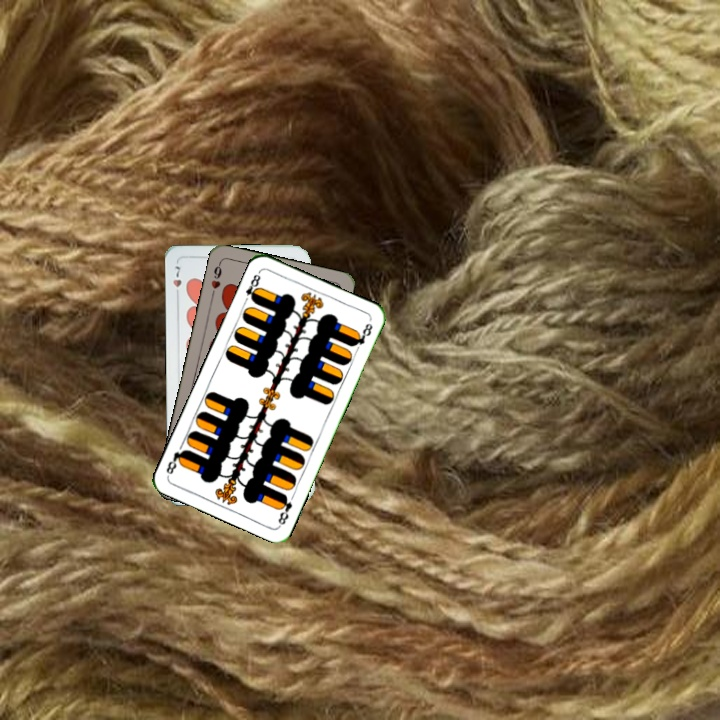E8: (240, 270, 263, 306), (274, 490, 295, 528)
H7: (169, 262, 184, 301)
H9: (207, 259, 224, 299)
